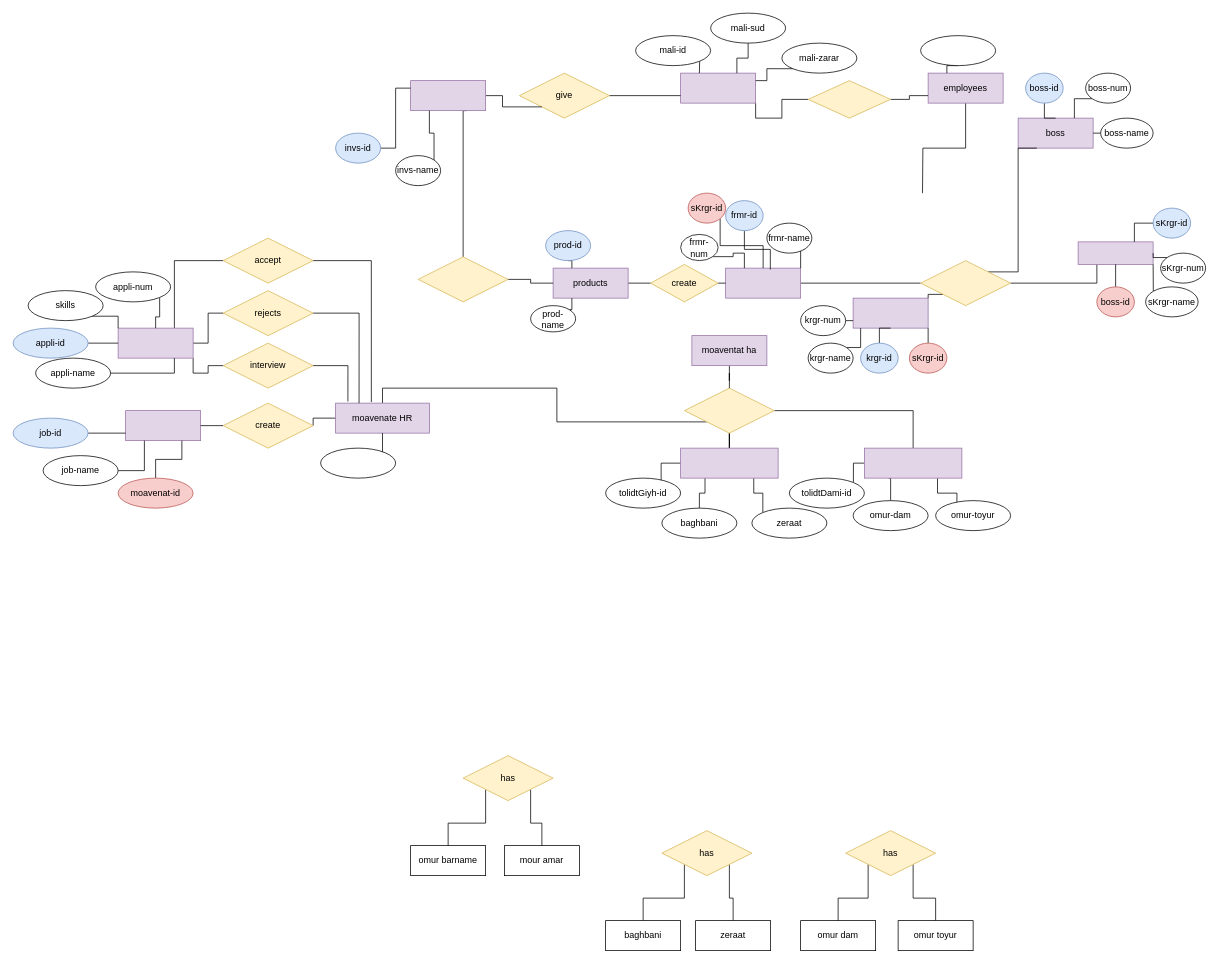
The diagram is 1219 pixels wide and 964 high, and some of its shapes have lost their labels. The shapes that lost their labels are listed below. From the top down, each one's box as (x1, y1, x2, y2) in pixels, then its label:
(920, 35, 996, 66): employees-num
(410, 80, 486, 111): investor
(680, 72, 756, 103): modiriyat mali
(807, 80, 891, 118): give salary
(1077, 241, 1153, 264): sarkargar
(417, 256, 508, 302): invest
(725, 267, 801, 298): farmer
(920, 260, 1011, 306): manage
(852, 297, 928, 328): kargar
(117, 327, 193, 358): applicant
(125, 410, 201, 441): job-opportunity
(684, 387, 774, 433): contain
(320, 447, 396, 478): HR-id
(680, 447, 778, 478): moavenat tolidat giyahi
(864, 447, 962, 478): moavenat tolidat dami
